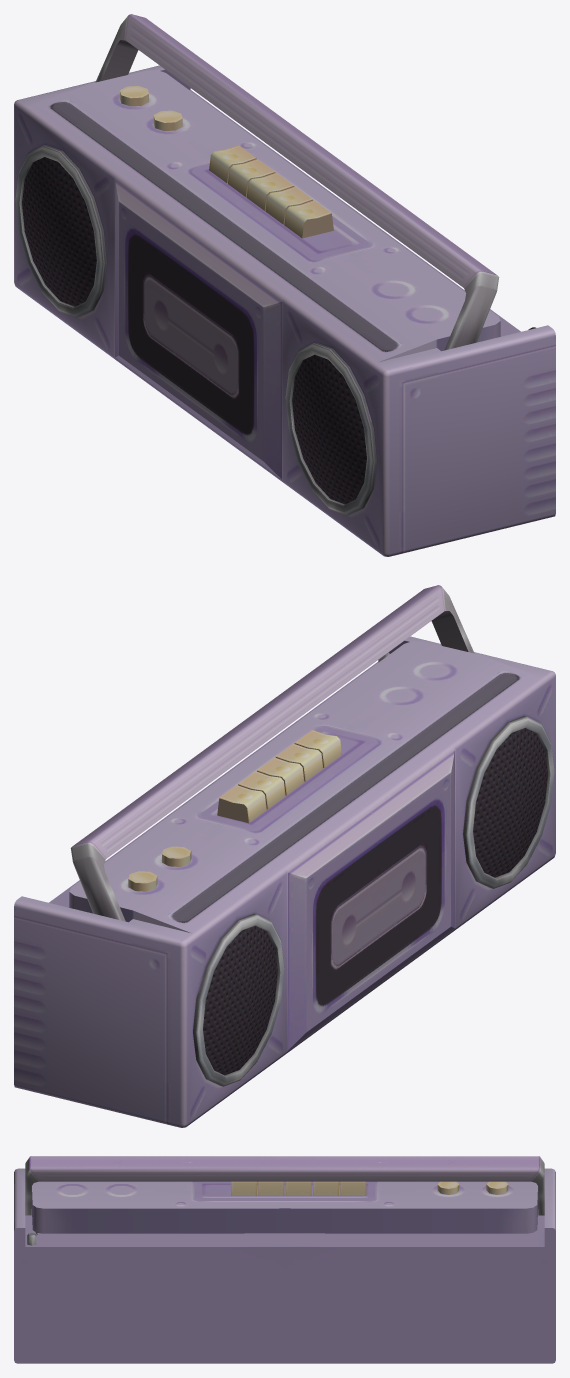
Rendered from radio_miside.glb.
3 views of the same model, one above another, from view 1: azimuth 30°, elevation 25°; view 2: azimuth 150°, elevation 25°; view 3: azimuth 270°, elevation 25° (orthographic). The views are drawn at different scales.
Parts seen in each view (by area): view 1: Recorder_4; view 2: Recorder_4; view 3: Recorder_4.
Boxes of the visible parts, x1,y1,x2,y2 form: Recorder_4: (14,14,555,556); Recorder_4: (14,585,555,1127); Recorder_4: (14,1156,555,1363).
Bounding box in the file's own units: 22.65 × 30.08 × 80.06.
1 material, 1 textured.
